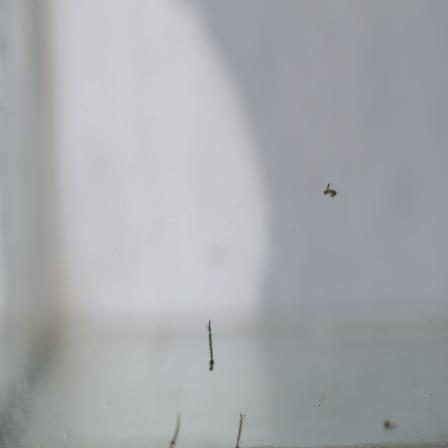Jentik-Nyamuk: (206, 318, 219, 373), (322, 182, 342, 204)
